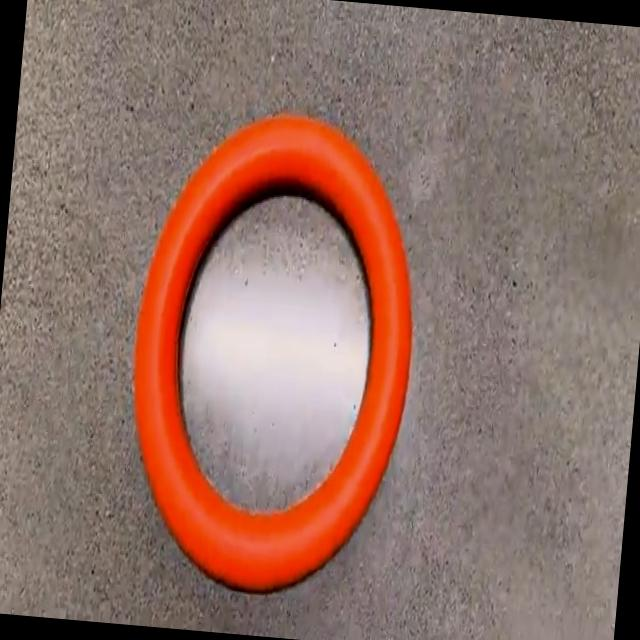note: (133, 115, 411, 589)
